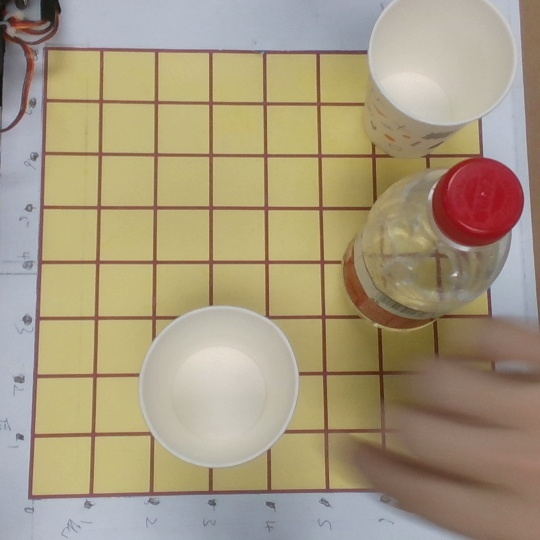bottle: (305, 158, 525, 365)
cup: (352, 1, 518, 179), (130, 303, 306, 470)
